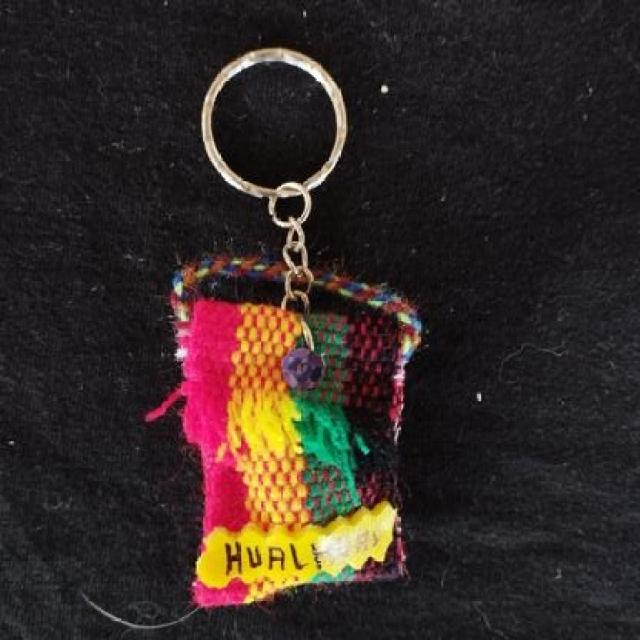Llavero: (146, 251, 425, 609)
